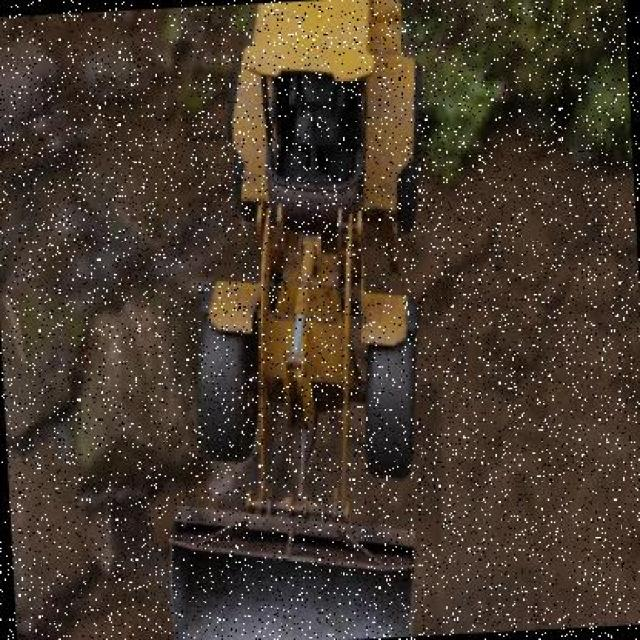buldozerpayloadergrader: (136, 0, 447, 640)
